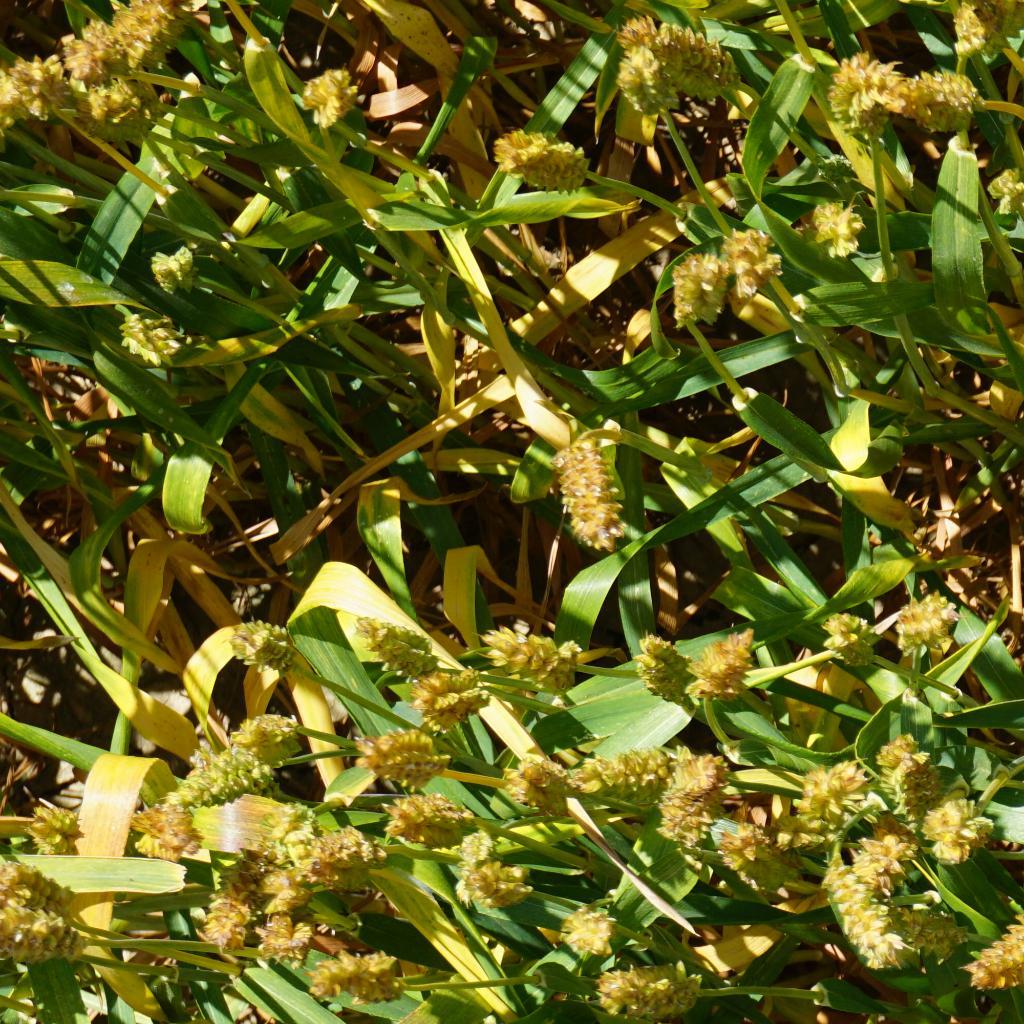0-0: (195, 837, 294, 947), (546, 427, 629, 549), (584, 957, 723, 1020), (905, 781, 994, 870), (818, 47, 901, 142), (657, 751, 730, 855), (879, 64, 983, 136), (304, 946, 415, 1011), (716, 819, 798, 905), (491, 742, 585, 816), (834, 885, 910, 974), (348, 721, 448, 787), (569, 737, 662, 806), (484, 617, 578, 685), (686, 623, 756, 712), (418, 659, 497, 736), (630, 623, 695, 712), (652, 34, 743, 97), (0, 912, 102, 966), (0, 59, 67, 140), (126, 792, 203, 862), (524, 141, 605, 207), (182, 743, 262, 809), (223, 613, 305, 676), (945, 0, 1024, 64), (113, 309, 194, 371), (462, 855, 534, 923), (809, 603, 882, 670), (972, 899, 1024, 993), (295, 63, 366, 130), (862, 731, 957, 781), (805, 748, 858, 835), (376, 781, 462, 832), (879, 596, 952, 656), (19, 793, 89, 855), (841, 832, 920, 886), (668, 252, 727, 323), (137, 233, 198, 301), (231, 710, 313, 760), (611, 54, 678, 115), (105, 0, 173, 60), (722, 222, 780, 292), (46, 30, 121, 84), (550, 899, 621, 955), (307, 819, 380, 873), (355, 619, 429, 670), (0, 863, 84, 906), (879, 743, 936, 806), (802, 198, 861, 256), (84, 84, 155, 131), (982, 150, 1024, 227), (897, 905, 962, 953), (615, 12, 662, 66), (448, 832, 497, 881), (265, 908, 308, 963), (263, 864, 307, 908), (265, 796, 305, 832), (502, 128, 537, 165)
